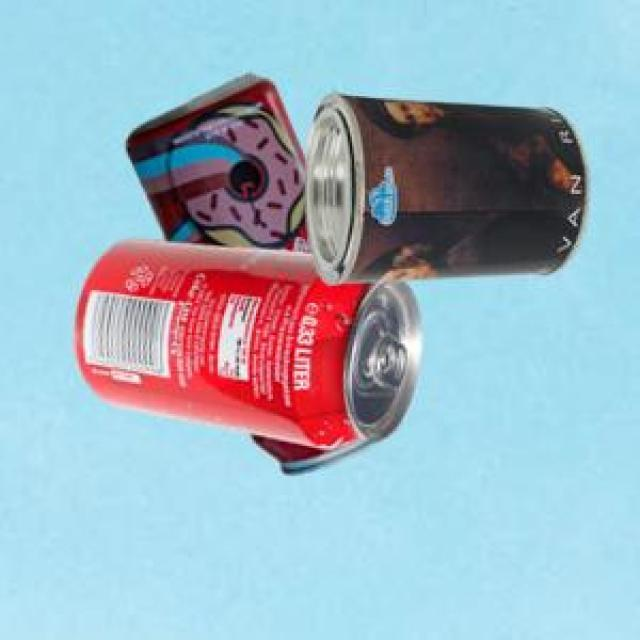Can: (71, 236, 419, 445), (304, 91, 586, 281), (123, 71, 307, 361)
